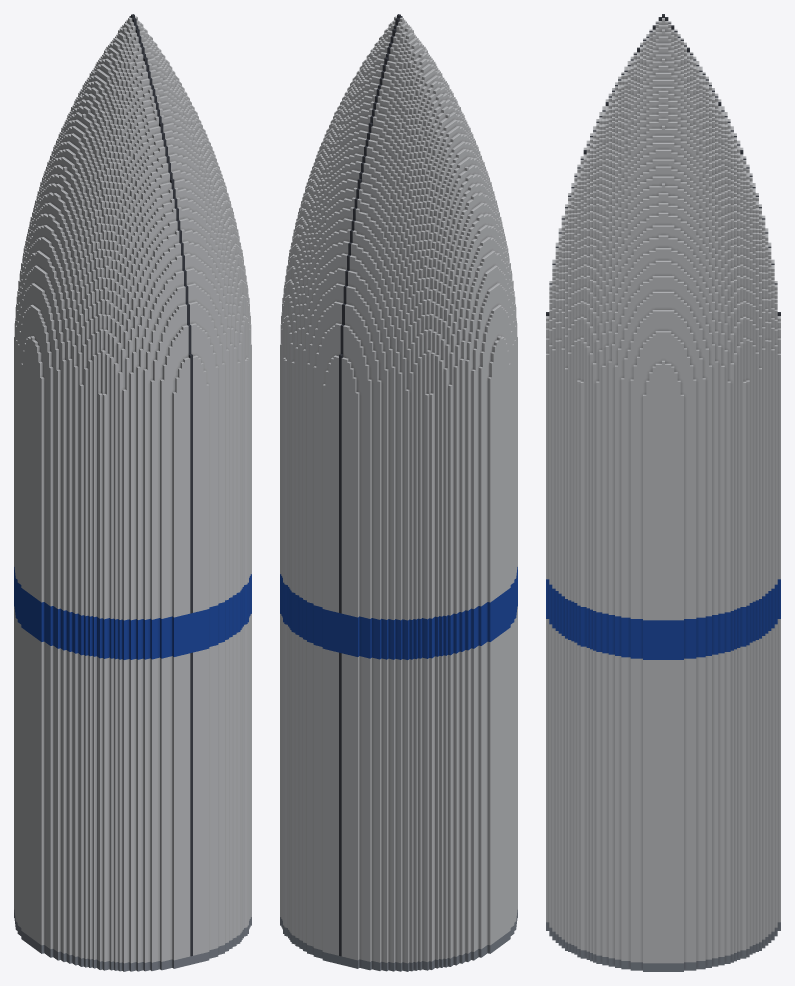
The model's file is fairing_l_long.glb.
3 renders of one model, left to right at view 1: azimuth 30°, elevation 25°; view 2: azimuth 150°, elevation 25°; view 3: azimuth 270°, elevation 25°, orthographic.
Parts seen in each view (by area): view 1: fairing_l_long; view 2: fairing_l_long; view 3: fairing_l_long.
Boxes of the visible parts, bbox=[...] form: fairing_l_long: bbox=[14, 14, 251, 971]; fairing_l_long: bbox=[280, 14, 517, 971]; fairing_l_long: bbox=[546, 14, 780, 971].
Size of the model in its own units: 3.75 by 16 by 3.75.
